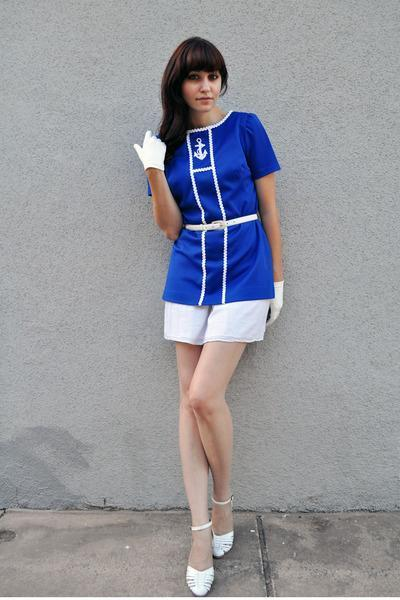dress: (163, 112, 275, 315)
shoe: (180, 531, 233, 599)
shorts: (164, 281, 283, 342)
